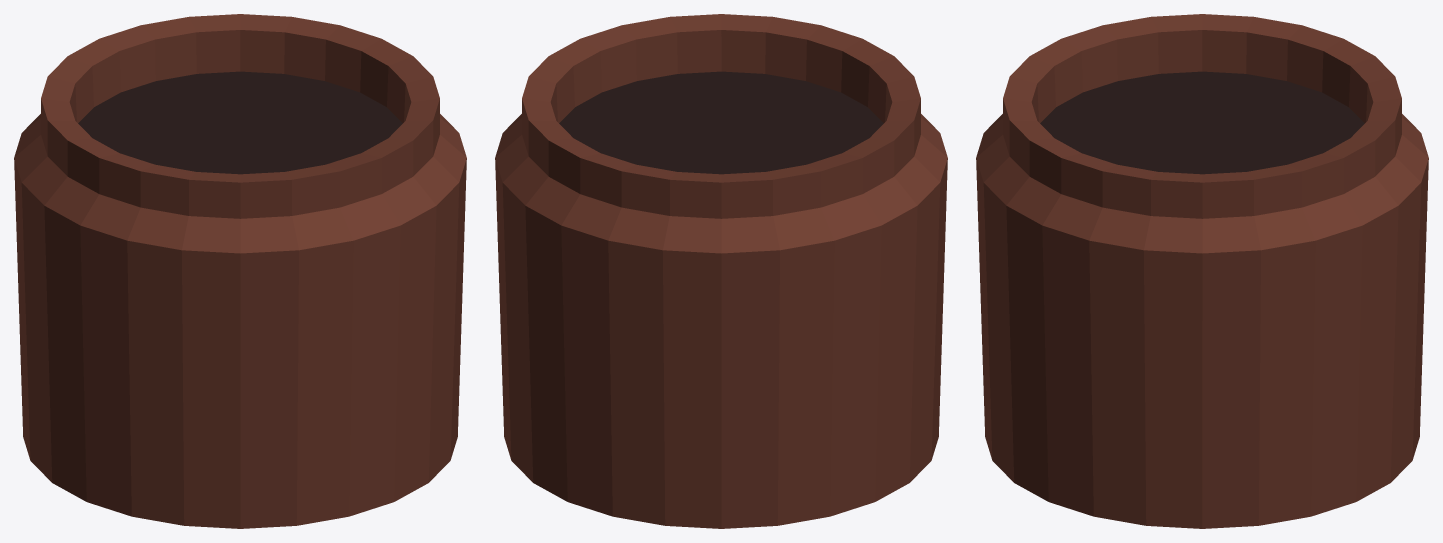
Rendered from MBJ_PlantPack01_Pot03_LOD3_v001.fbx.
3 views of the same model, side by side, from view 1: azimuth 30°, elevation 25°; view 2: azimuth 150°, elevation 25°; view 3: azimuth 270°, elevation 25° (orthographic).
Visible parts, largest first — view 1: PlantPot03_C.001; view 2: PlantPot03_C.001; view 3: PlantPot03_C.001.
Boxes of the visible parts, x1,y1,x2,y2 form: PlantPot03_C.001: [14, 14, 466, 528]; PlantPot03_C.001: [495, 14, 947, 528]; PlantPot03_C.001: [976, 14, 1428, 528].
Size of the model in its own units: 55.4 by 45.74 by 55.4.
